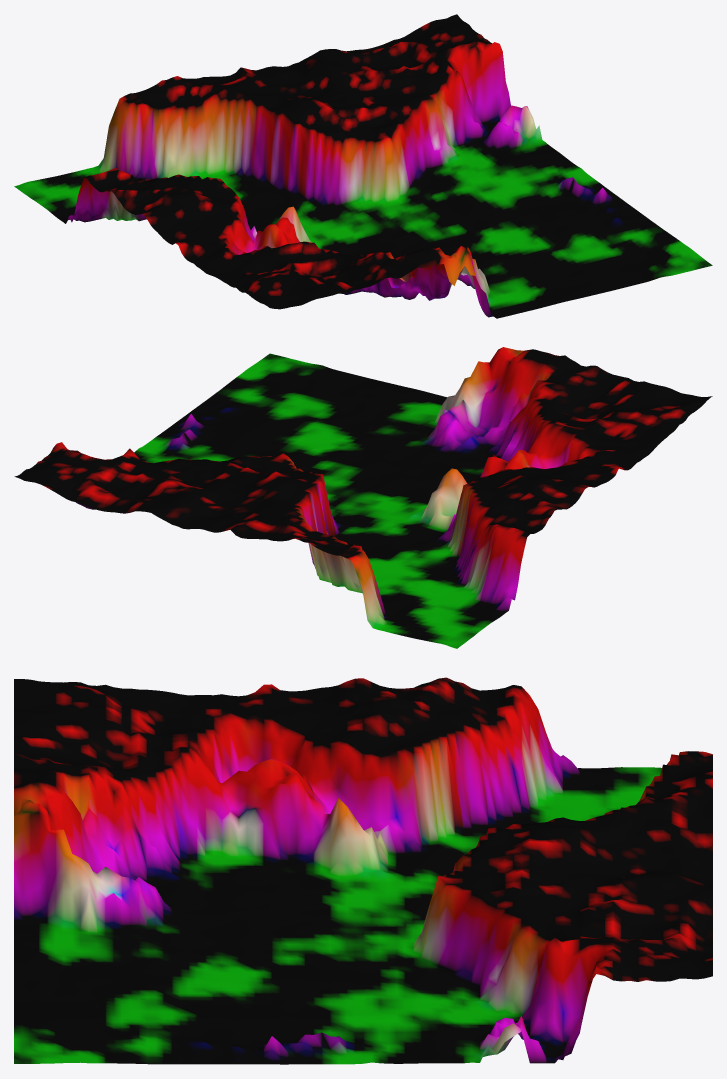
The model's file is SM_AlUla_Terrain_3_0.fbx.
3 renders of one model, top to bottom at view 1: azimuth 30°, elevation 25°; view 2: azimuth 150°, elevation 25°; view 3: azimuth 270°, elevation 25°, orthographic. The views are drawn at different scales.
Parts seen in each view (by area): view 1: SM_AlUla_Terrain_3_0; view 2: SM_AlUla_Terrain_3_0; view 3: SM_AlUla_Terrain_3_0.
Part boxes in pixels (left/top/right/bottom): SM_AlUla_Terrain_3_0: left=14, top=14, right=712, bottom=318; SM_AlUla_Terrain_3_0: left=14, top=347, right=712, bottom=648; SM_AlUla_Terrain_3_0: left=14, top=677, right=712, bottom=1064.
Bounding box in the file's own units: 50400 × 8194 × 50400.
